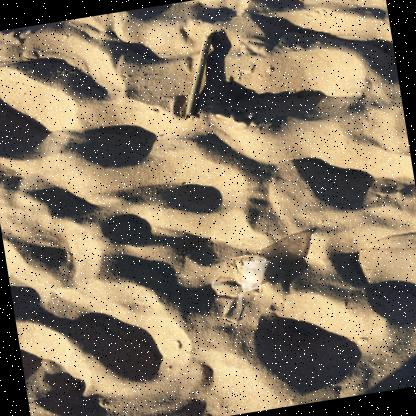Disposable plastic cup: (210, 257, 270, 322)
